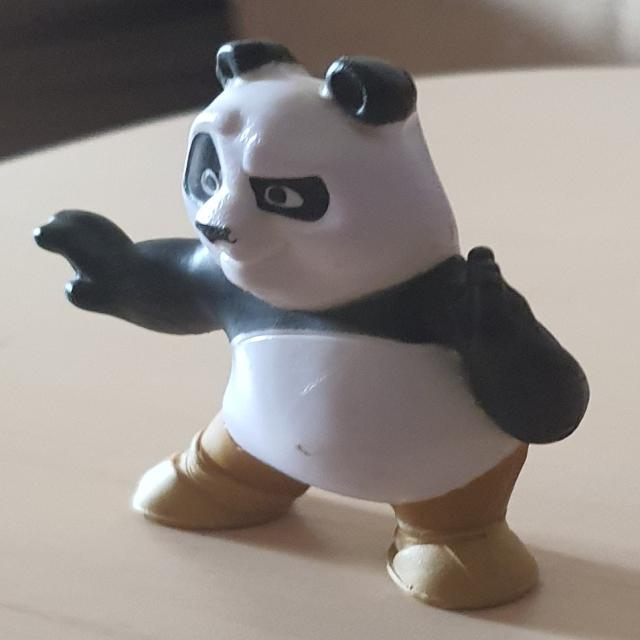Panda: (33, 38, 590, 610)
